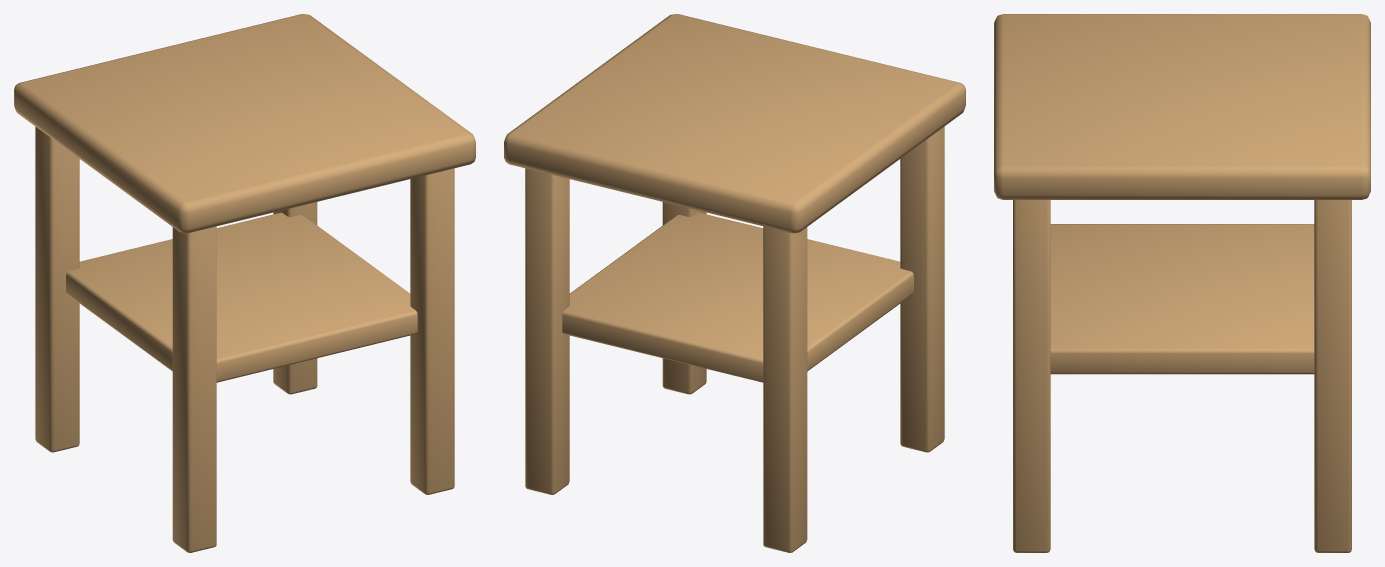
The model's file is Stool_Kitchen.glb.
3 views of the same model, side by side, from view 1: azimuth 30°, elevation 25°; view 2: azimuth 150°, elevation 25°; view 3: azimuth 270°, elevation 25° (orthographic). The views are drawn at different scales.
Visible parts, largest first — view 1: Stool_Kitchen; view 2: Stool_Kitchen; view 3: Stool_Kitchen.
Boxes of the visible parts, box(x1,y1,x2,y2) form: Stool_Kitchen: box(14, 14, 475, 552); Stool_Kitchen: box(504, 14, 965, 552); Stool_Kitchen: box(994, 14, 1370, 552).
Size of the model in its own units: 0.4 by 0.46 by 0.4.
